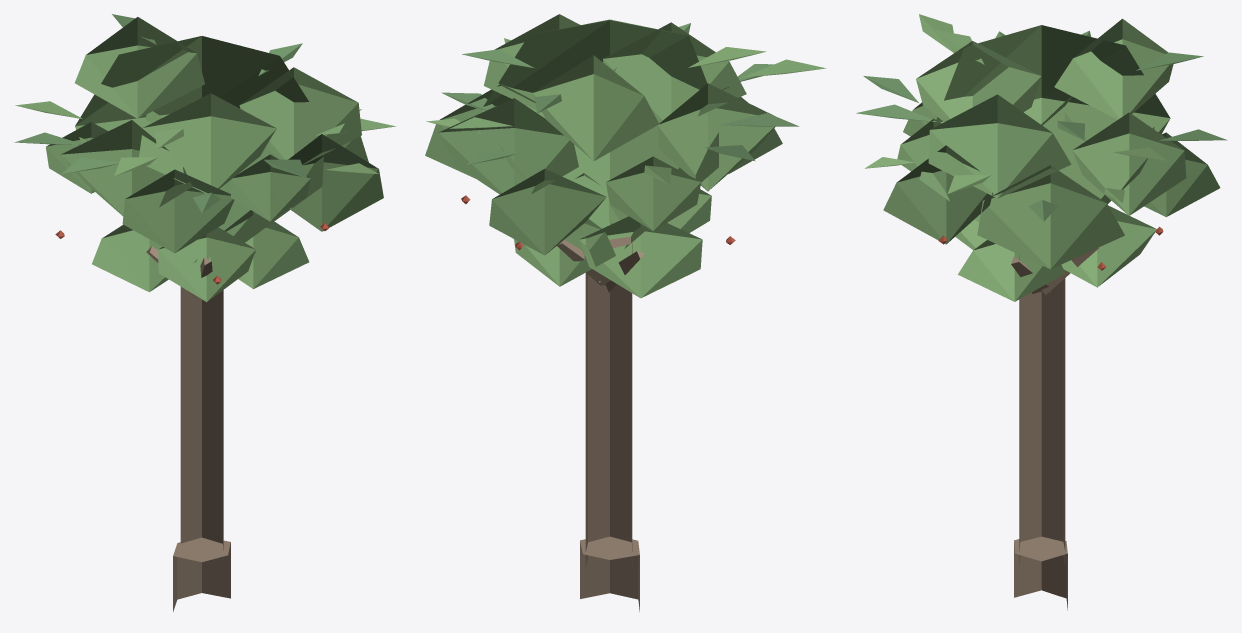
The model's file is shu.mumian@fruiting__bloom.glb.
The picture shows the model from 3 angles, left to right: view 1: azimuth 30°, elevation 25°; view 2: azimuth 150°, elevation 25°; view 3: azimuth 270°, elevation 25°; orthographic projection. The views are drawn at different scales.
Parts seen in each view (by area): view 1: shu.mumian@fruiting__bloom; view 2: shu.mumian@fruiting__bloom; view 3: shu.mumian@fruiting__bloom.
Part boxes in pixels (x1,y1,x2,y2): shu.mumian@fruiting__bloom: (14, 14, 396, 611); shu.mumian@fruiting__bloom: (425, 14, 825, 611); shu.mumian@fruiting__bloom: (856, 14, 1227, 610).
Size of the model in its own units: 18.3 by 30.34 by 17.84.
